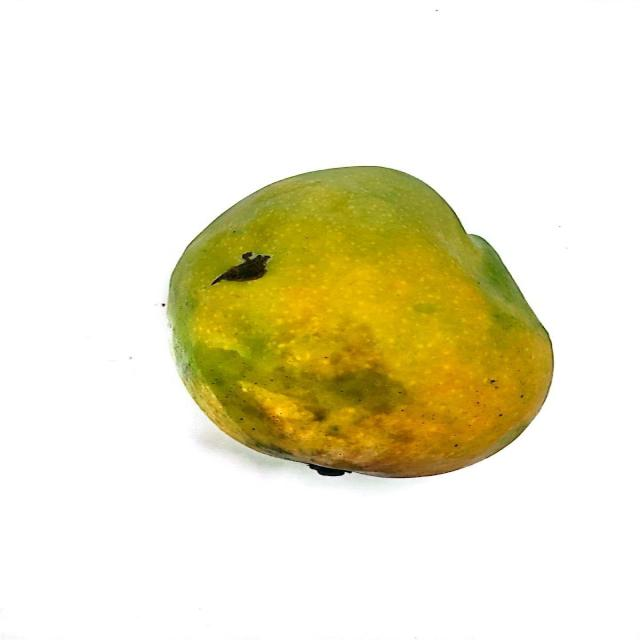fresh_mango: (164, 165, 552, 473)
